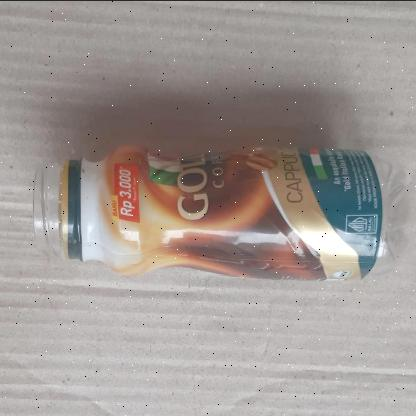Plastic Bottle: (31, 144, 412, 282)
